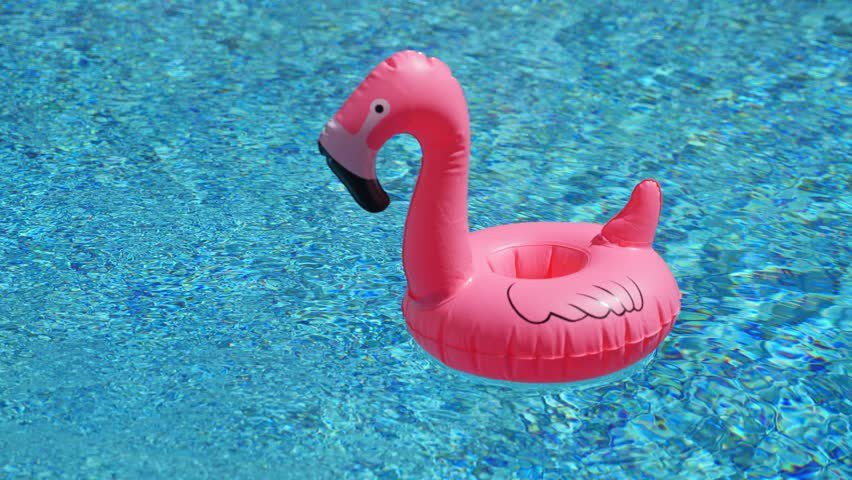Flamingo: (316, 47, 683, 395)
